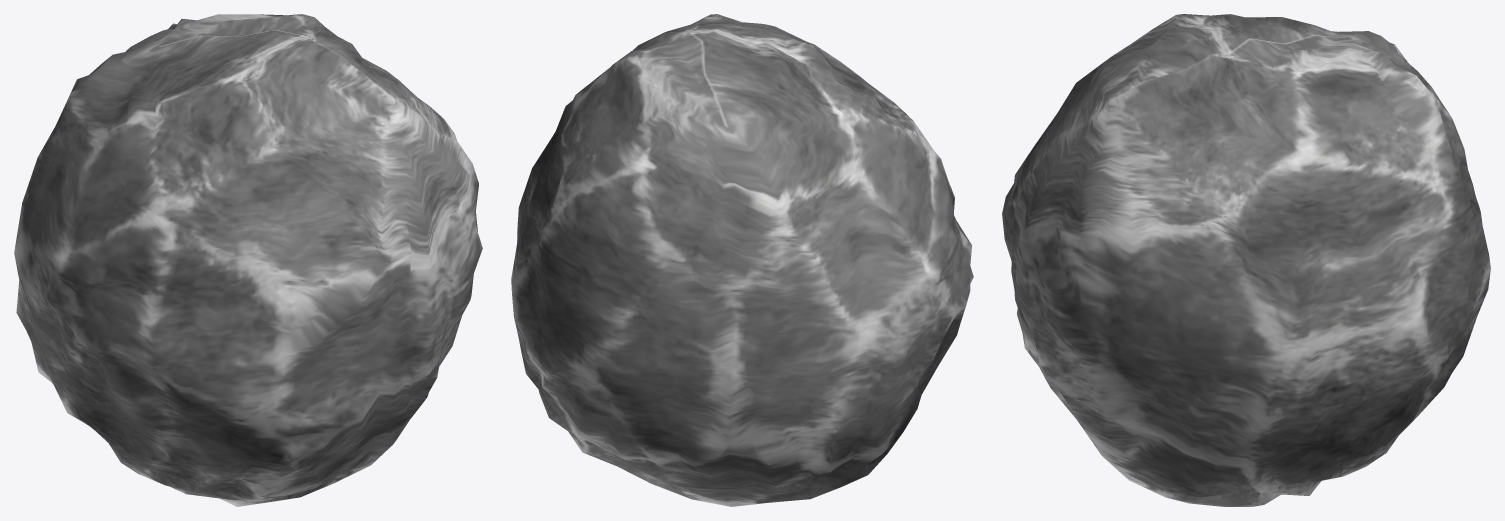
File: eff_Rock03.fbx
3 renders of one model, left to right at view 1: azimuth 30°, elevation 25°; view 2: azimuth 150°, elevation 25°; view 3: azimuth 270°, elevation 25°, orthographic. The views are drawn at different scales.
Parts seen in each view (by area): view 1: eff_Rock03_msh; view 2: eff_Rock03_msh; view 3: eff_Rock03_msh.
Part boxes in pixels (x1,y1,x2,y2): eff_Rock03_msh: (14, 14, 482, 506); eff_Rock03_msh: (511, 14, 973, 506); eff_Rock03_msh: (1002, 14, 1490, 506).
Bounding box in the file's own units: 1.4 × 1.5 × 1.44.
